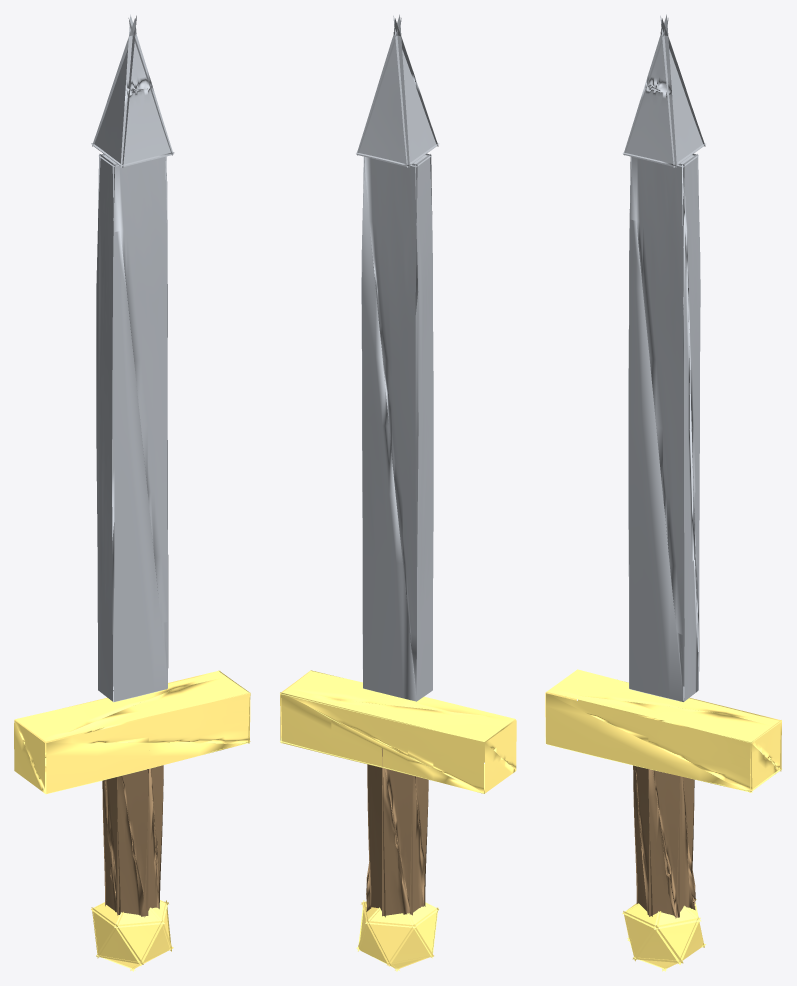
The model's file is sword.glb.
The picture shows the model from 3 angles, left to right: view 1: azimuth 30°, elevation 25°; view 2: azimuth 150°, elevation 25°; view 3: azimuth 330°, elevation 25°; orthographic projection.
Visible parts, largest first — view 1: SwordGrip; view 2: SwordGrip; view 3: SwordGrip.
Part boxes in pixels (x1=…): SwordGrip: x1=14, y1=14, x2=250, y2=971; SwordGrip: x1=280, y1=14, x2=516, y2=971; SwordGrip: x1=545, y1=14, x2=781, y2=971.
Size of the model in its own units: 0.3845 by 1.69 by 0.131.
